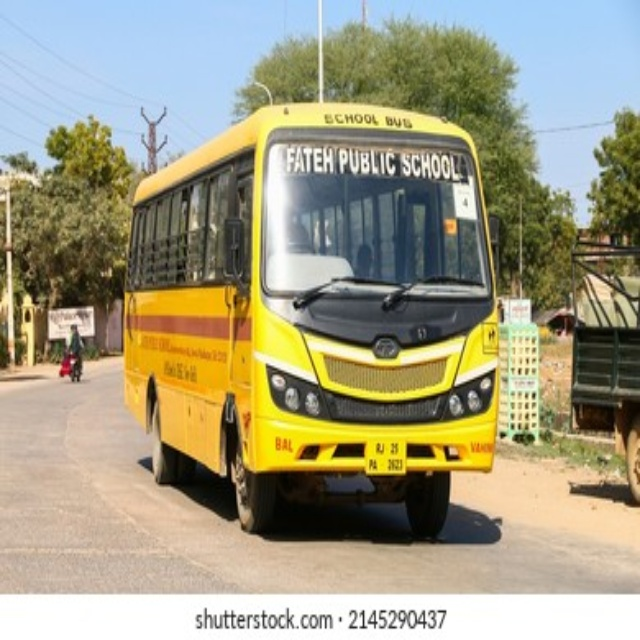Bus: (123, 103, 499, 535)
